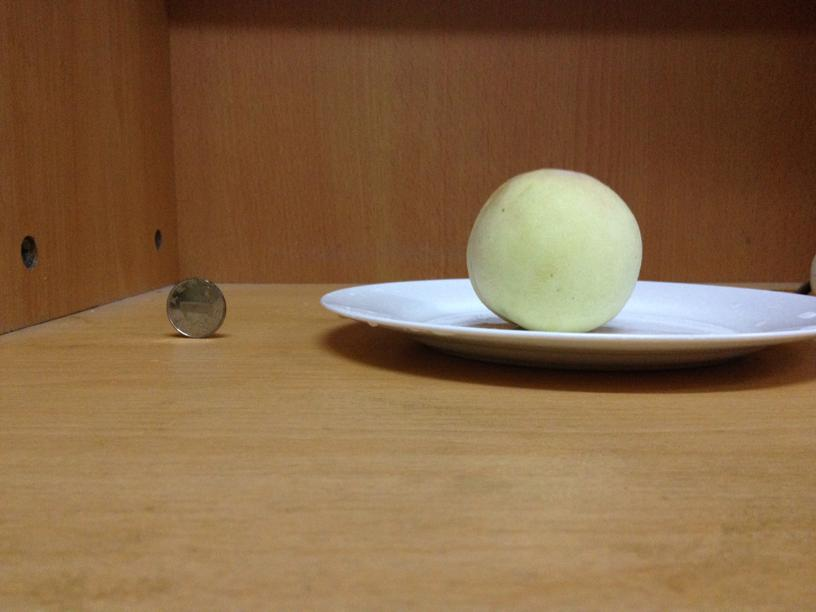coin: (164, 274, 227, 337)
peach: (462, 167, 645, 332)
